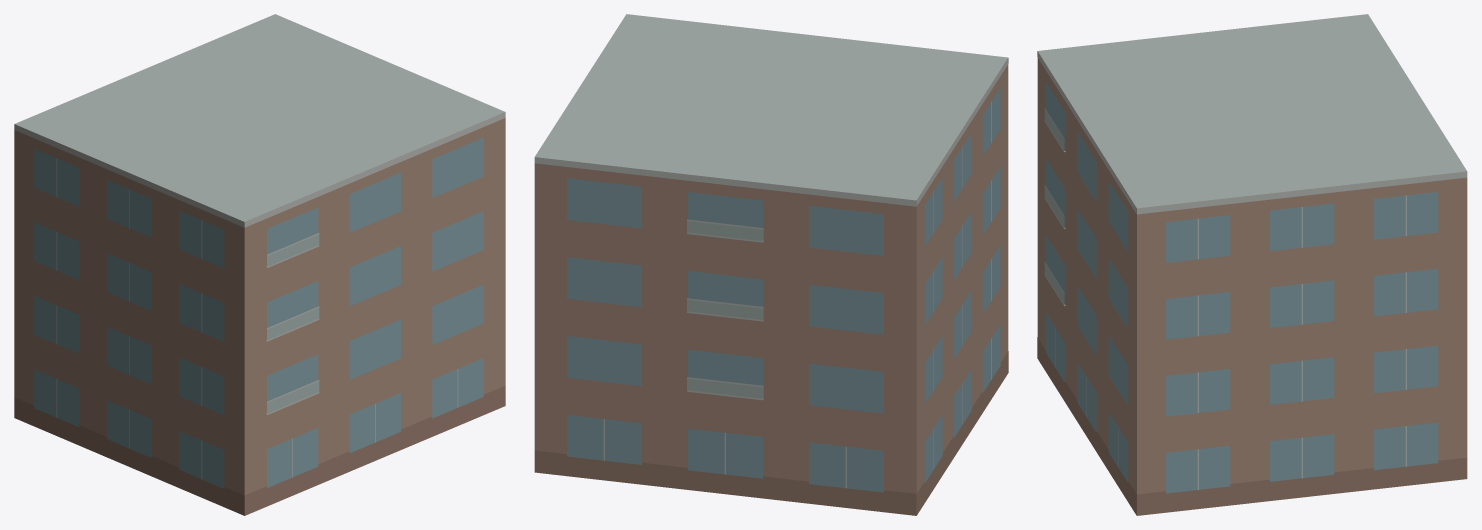
File: survey-upis-32711223.glb
The picture shows the model from 3 angles, left to right: view 1: azimuth 30°, elevation 25°; view 2: azimuth 150°, elevation 25°; view 3: azimuth 270°, elevation 25°; orthographic projection. The views are drawn at different scales.
Parts seen in each view (by area): view 1: survey-upis-32711223.tmp; view 2: survey-upis-32711223.tmp; view 3: survey-upis-32711223.tmp.
Boxes of the visible parts, <box> form: survey-upis-32711223.tmp: <box>14,14,505,515</box>; survey-upis-32711223.tmp: <box>534,14,1008,515</box>; survey-upis-32711223.tmp: <box>1037,14,1467,515</box>.
Size of the model in its own units: 16.83 by 12.4 by 15.72.
